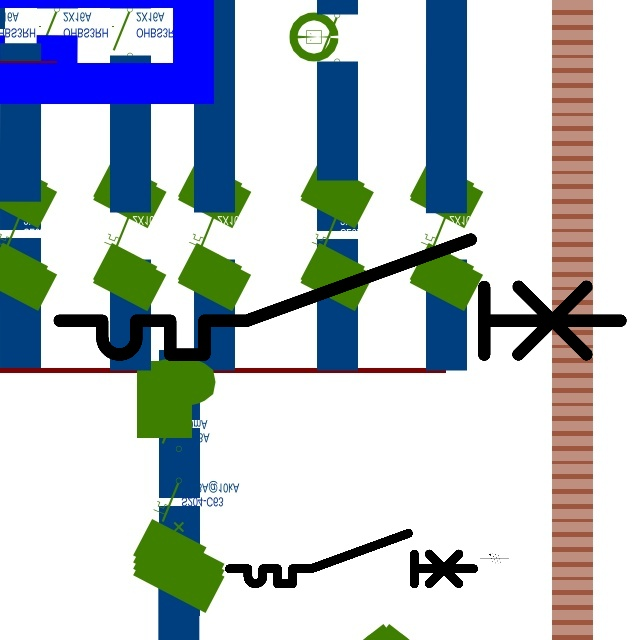interruptor_termomagnetico: (45, 225, 635, 369), (223, 527, 480, 590)
